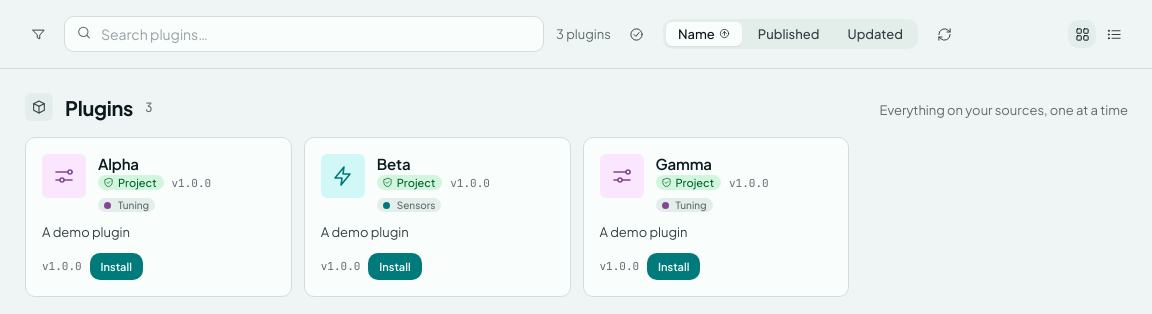
it: PluginStore filtering › clears the search from the clear button
expect the text "Alpha" is shown: met, box [98,154,139,173]
Type "Beta" into the field with placeholder "Search plugins…" at (304, 34), box [64,16,544,52]
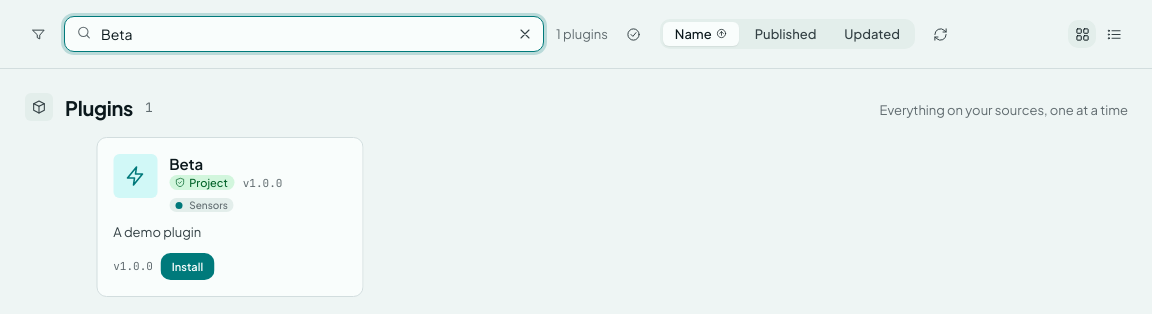
expect the button "Alpha" is gone: met
Click the button named "Clear search" at (525, 34), box [511,20,539,48]
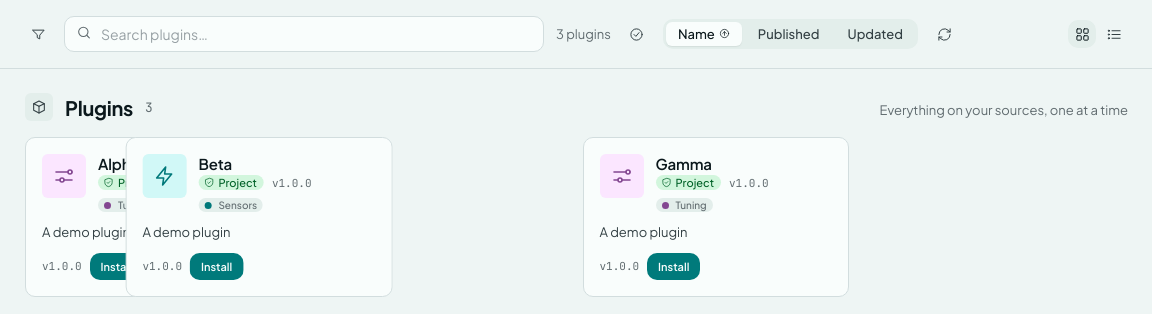
expect the text "Alpha" is shown: met, box [98,154,139,173]
expect the text "Gamma" is shown: met, box [656,154,712,173]
expect the field with placeholder "Search plugins…" is empty: met, box [64,16,544,52]
